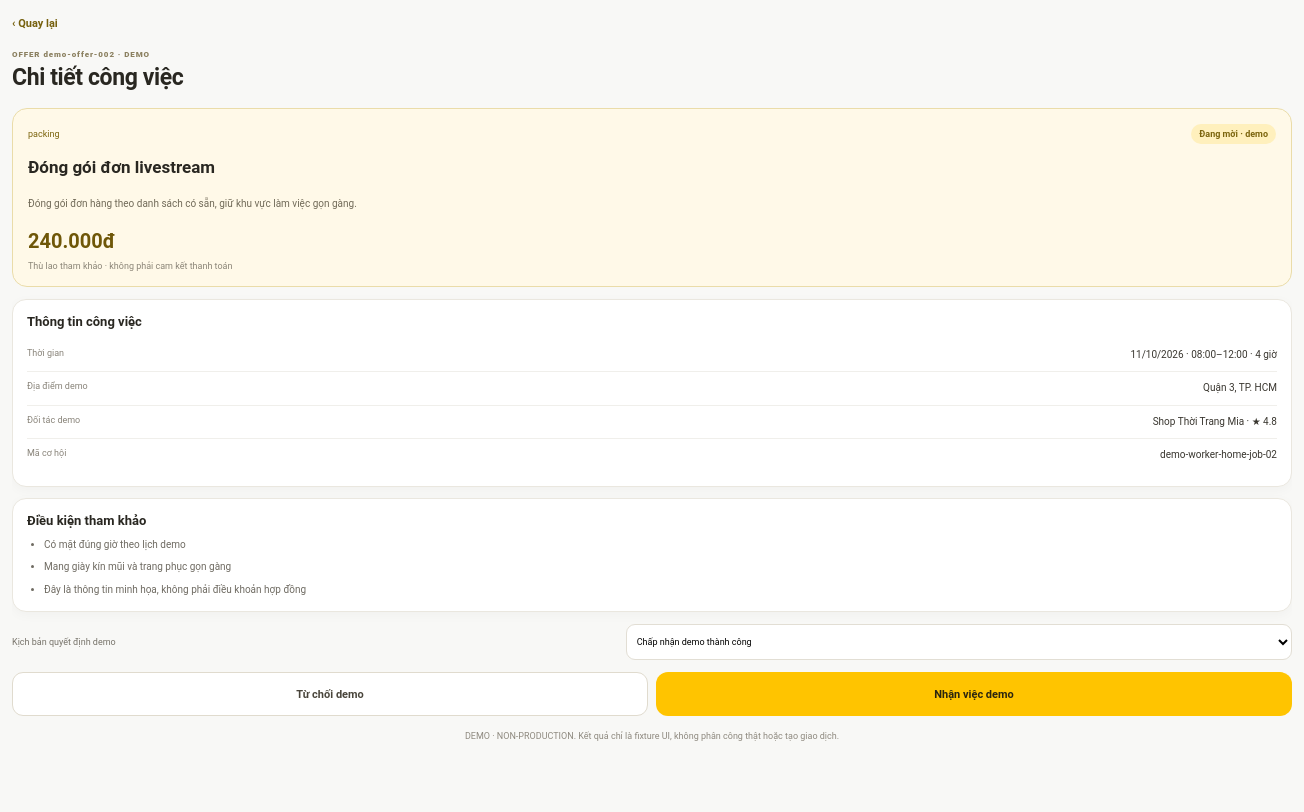
Test: Worker lifecycle screens › shows offer detail for the selected offer and exposes a stale outcome
Select "Offer đã hết hạn" in the dropdown labelled "Kịch bản quyết định demo". click: (959, 642)
box: [626, 624, 1292, 660]
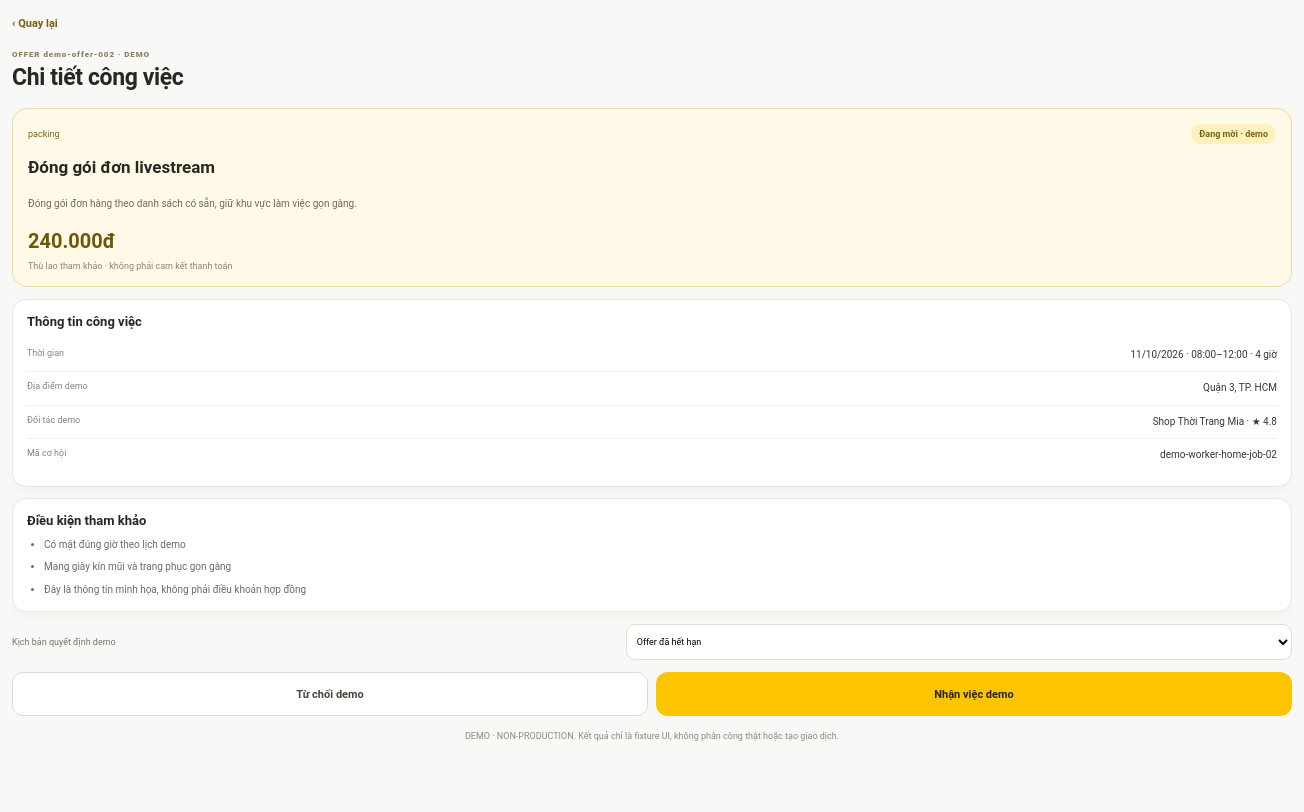
Click the button "Nhận việc demo". click: click(974, 694)
box: [656, 672, 1292, 716]
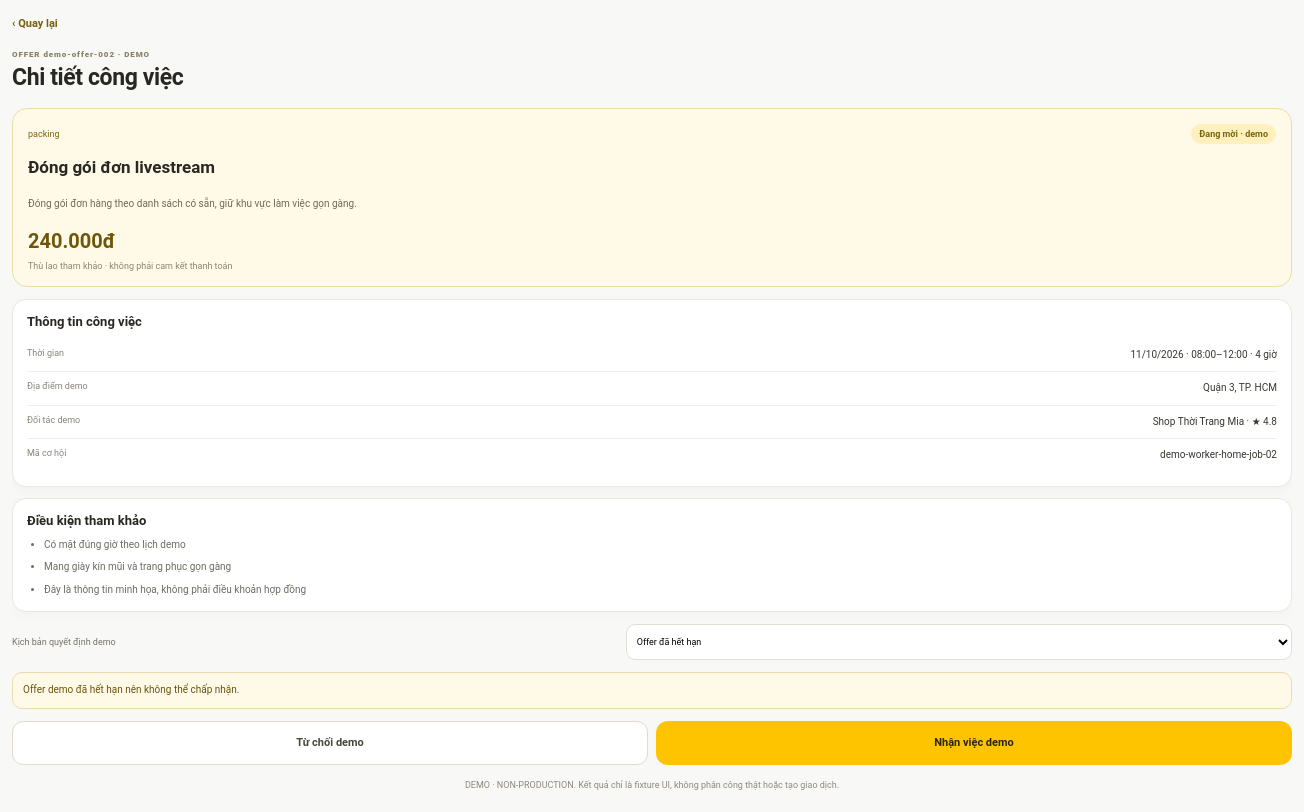
Result: the text "Offer demo đã hết hạn nên không thể chấp nhận." is shown at [12, 672, 1292, 709]
